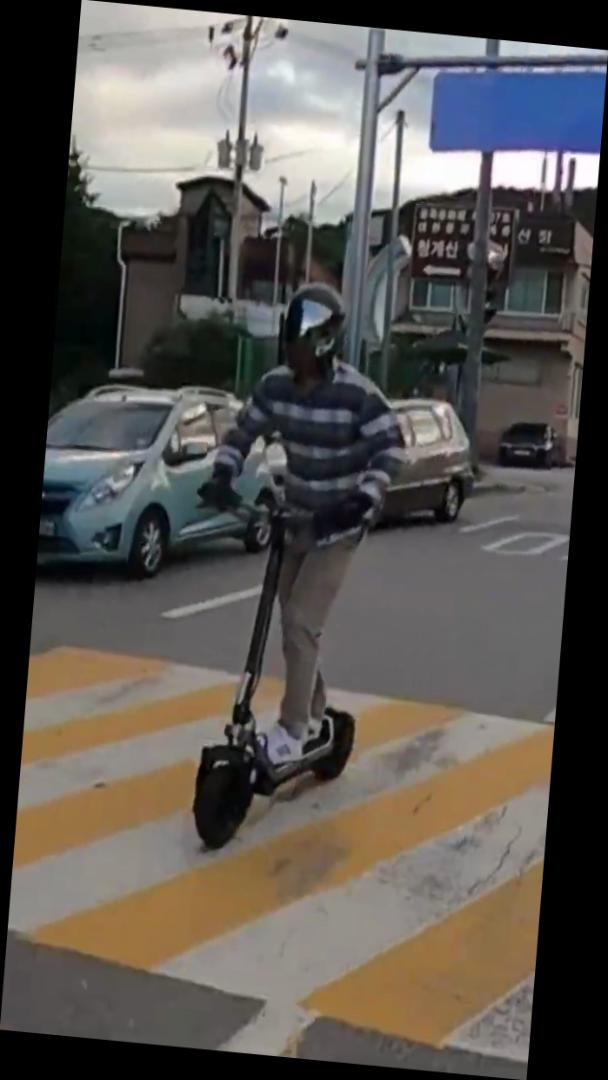helmet: (176, 272, 422, 869)
